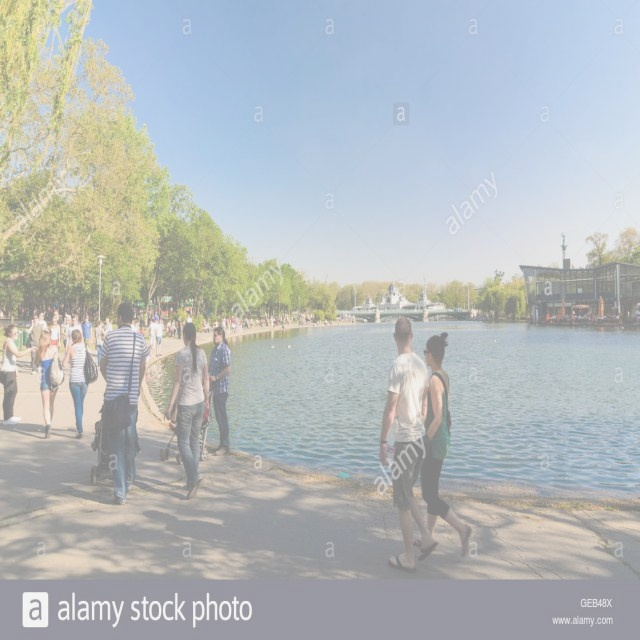pessoa: (374, 313, 440, 576), (411, 331, 473, 558), (97, 301, 152, 508), (162, 318, 212, 503), (60, 327, 99, 440), (0, 322, 40, 427), (33, 328, 66, 439), (206, 325, 232, 457), (547, 309, 623, 324), (26, 312, 44, 375), (64, 316, 84, 354), (48, 316, 61, 368), (94, 318, 106, 368), (31, 297, 64, 315), (68, 314, 84, 348), (74, 300, 104, 318), (60, 312, 74, 350), (80, 313, 94, 351), (95, 320, 106, 366), (154, 316, 166, 358), (260, 318, 292, 330), (296, 308, 316, 327), (12, 302, 30, 322), (153, 300, 174, 316), (147, 318, 157, 351), (338, 311, 357, 327), (238, 310, 253, 330), (36, 310, 49, 330), (128, 320, 140, 338), (52, 309, 63, 328), (264, 310, 290, 318), (175, 314, 182, 339), (166, 319, 175, 338), (129, 302, 138, 320), (104, 318, 113, 334), (180, 318, 188, 336), (597, 283, 613, 292), (142, 311, 149, 331), (171, 319, 178, 337), (184, 306, 193, 320), (138, 310, 144, 330), (224, 316, 230, 335), (230, 315, 236, 334), (152, 310, 160, 324), (210, 318, 218, 332), (200, 320, 207, 334), (147, 305, 153, 321), (206, 320, 213, 333), (185, 312, 193, 323), (255, 316, 263, 327), (175, 326, 183, 336), (231, 306, 238, 317), (138, 306, 146, 315), (482, 311, 490, 320), (222, 315, 226, 332), (529, 310, 534, 322), (626, 308, 630, 322), (0, 307, 4, 321), (329, 318, 335, 327), (392, 307, 405, 311), (324, 318, 329, 328), (256, 308, 261, 318), (250, 316, 254, 328), (218, 306, 222, 318), (356, 306, 364, 312), (370, 306, 378, 312), (316, 317, 320, 328), (322, 318, 327, 326), (476, 310, 480, 320), (233, 316, 237, 324), (508, 312, 512, 320), (318, 318, 322, 326), (158, 314, 162, 320), (472, 312, 475, 320), (491, 311, 494, 319)
